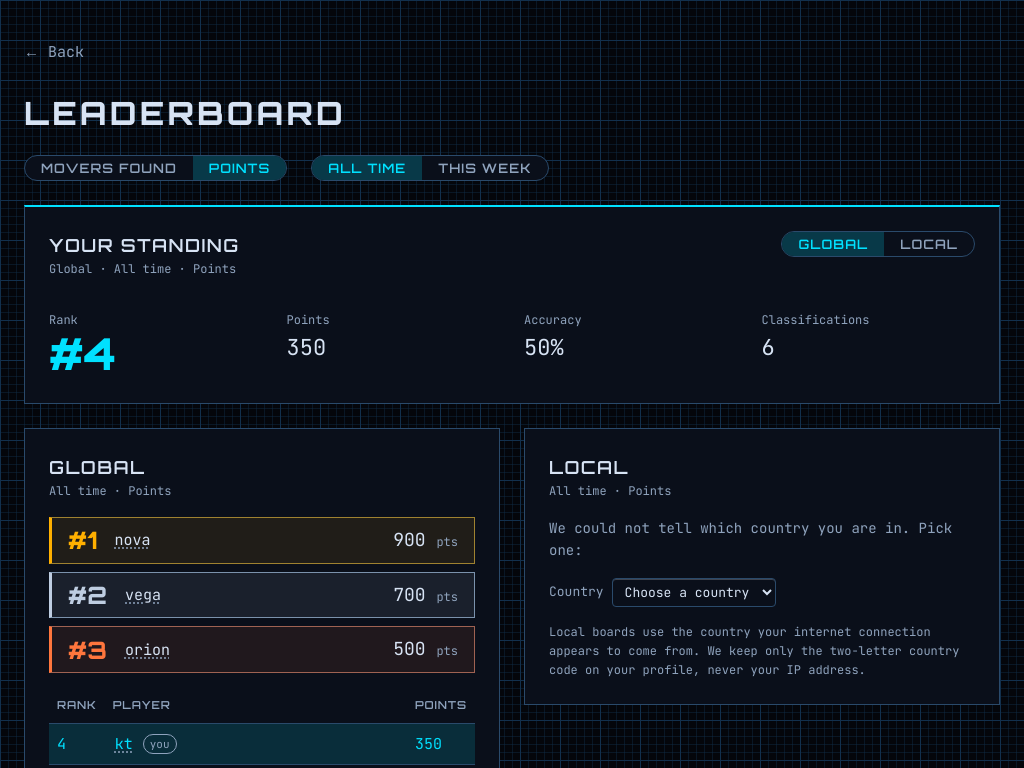
Scenario: LeaderboardScreen unavailable boards › no_country with countries: asks to pick one, and the choice is sent
This screenshot has width=1024, height=768.
Expected: the text "We could not tell which country you are in. Pick one:" is shown, [549, 517, 975, 562]
Expected: the dropdown labelled "Country" shows "Choose a country", [612, 578, 776, 606]
Click the button "Local" at (929, 244), box [884, 232, 974, 256]
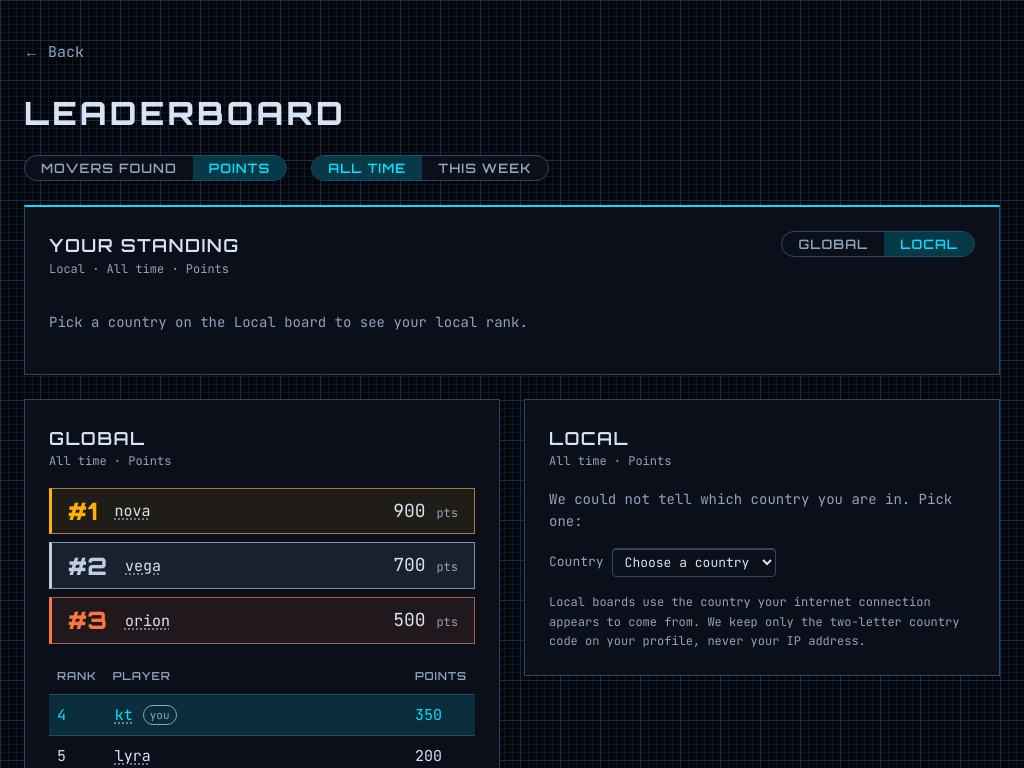
Expected: the text "Pick a country on the Local board to see your local rank." is shown, [49, 313, 528, 331]
Select "🇺🇸 United States" in the dropdown labelled "Country" at (694, 563), box [612, 548, 776, 577]
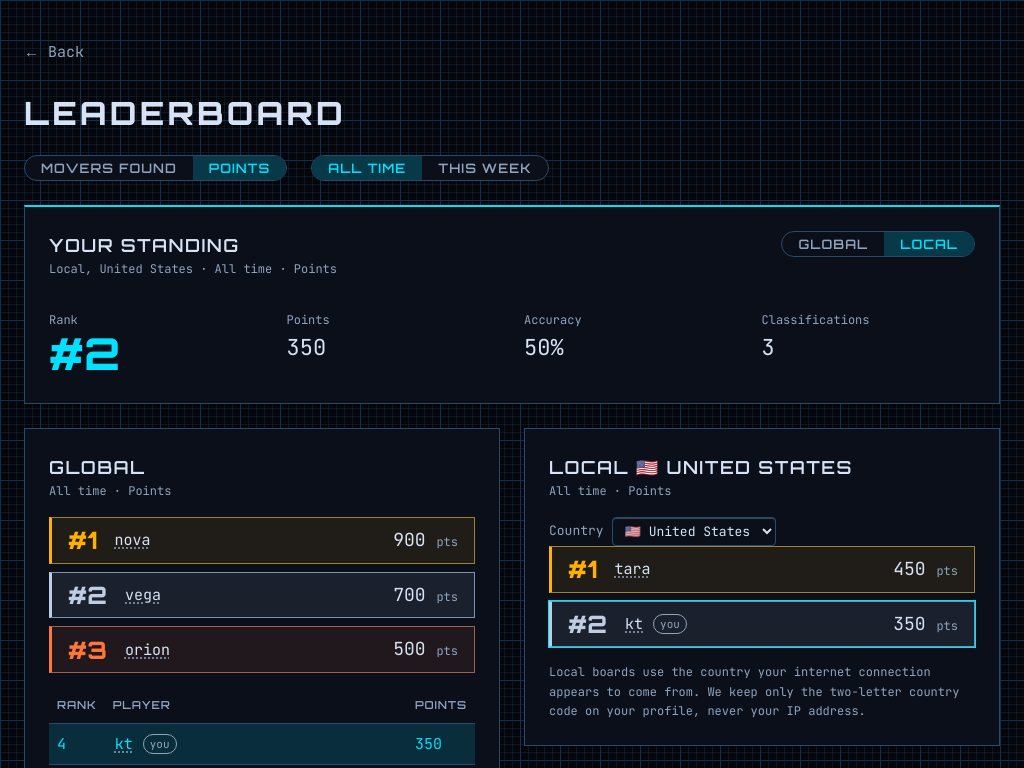
Expected: the button with aria-label "View stats for tara" is shown, [612, 557, 652, 581]
